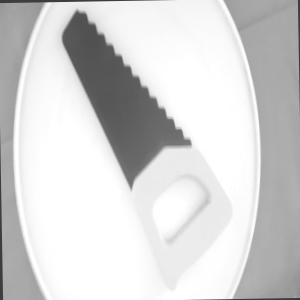serrote: (57, 5, 236, 292)
